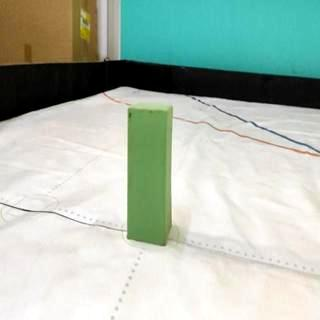greenbox: (127, 106, 173, 246)
